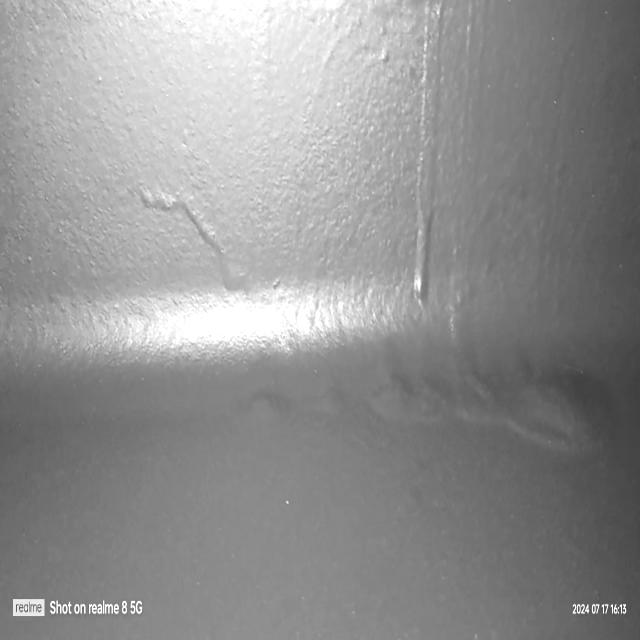paint drips: (390, 0, 486, 347), (128, 154, 269, 301)
